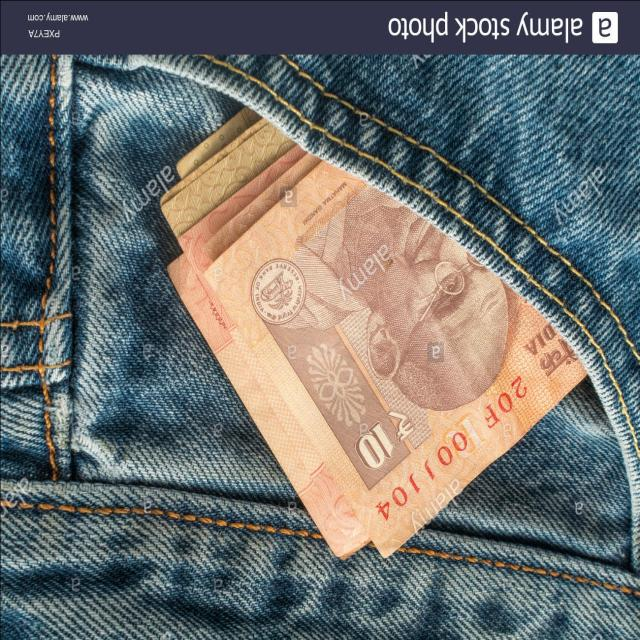10IndianRupees: (216, 175, 548, 560)
